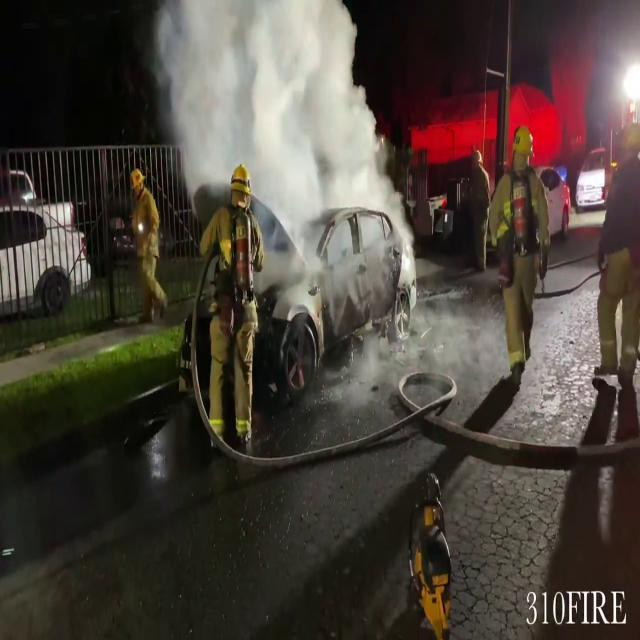Smoke: (161, 1, 405, 234)
